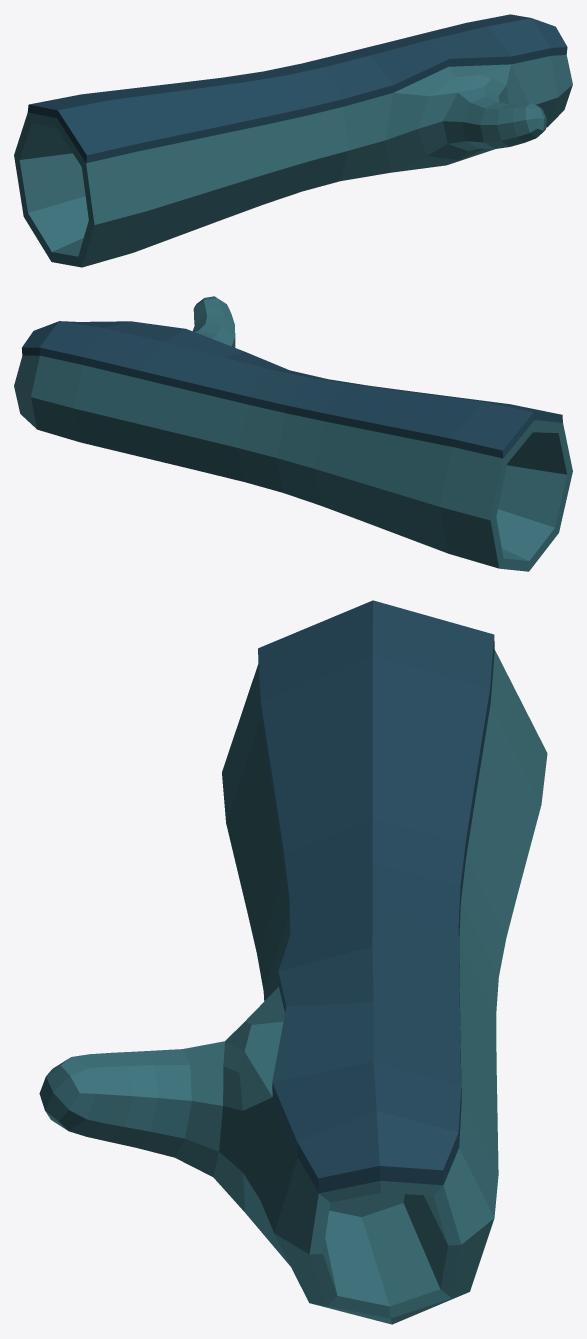
Rendered from arvore3.fbx.
The picture shows the model from 3 angles, top to bottom: view 1: azimuth 30°, elevation 25°; view 2: azimuth 150°, elevation 25°; view 3: azimuth 270°, elevation 25°; orthographic projection. The views are drawn at different scales.
Visible parts, largest first — view 1: Vert.001; view 2: Vert.001; view 3: Vert.001.
Boxes of the visible parts, x1,y1,x2,y2 form: Vert.001: (14, 14, 572, 267); Vert.001: (14, 296, 572, 571); Vert.001: (39, 600, 547, 1324).
Size of the model in its own units: 375 by 111 by 165.
